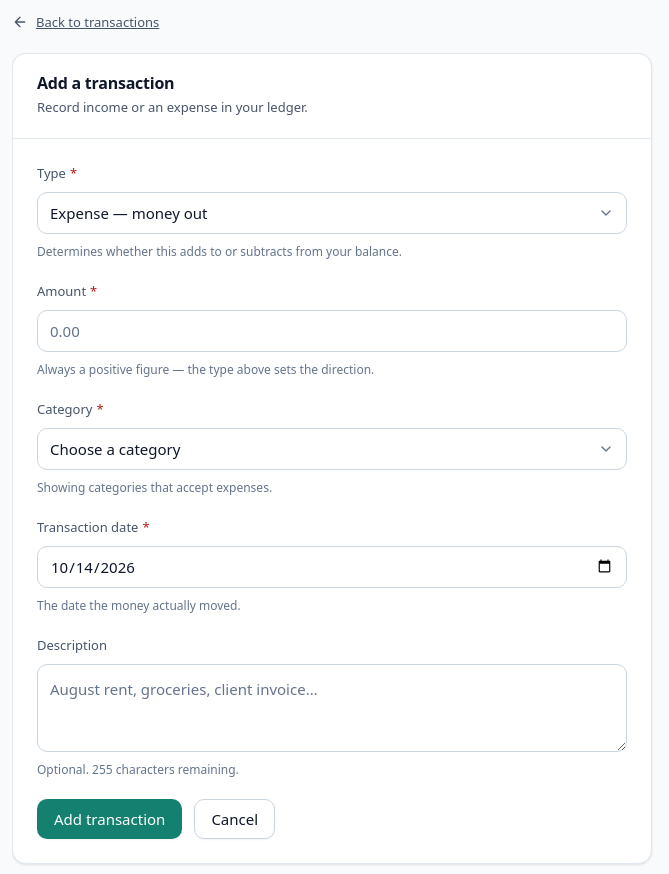
Test: TransactionFormPage › surfaces a domain rule the client cannot check
In the number field labelled "Amount *": (332, 331) [37, 310, 627, 352], type "1250.00"
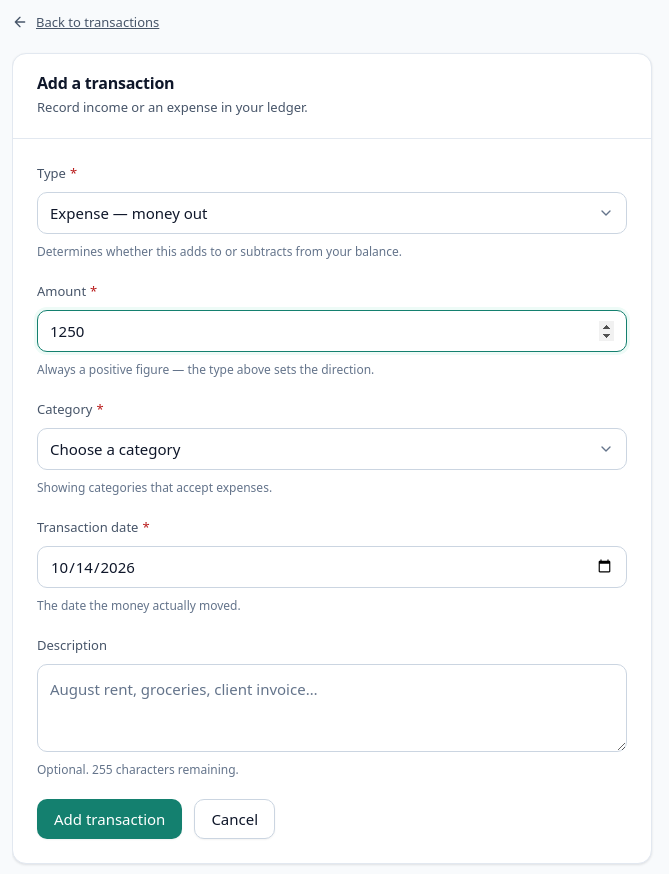
Select "Rent" in the dropdown labelled "Category *": (332, 448) [37, 428, 627, 470]
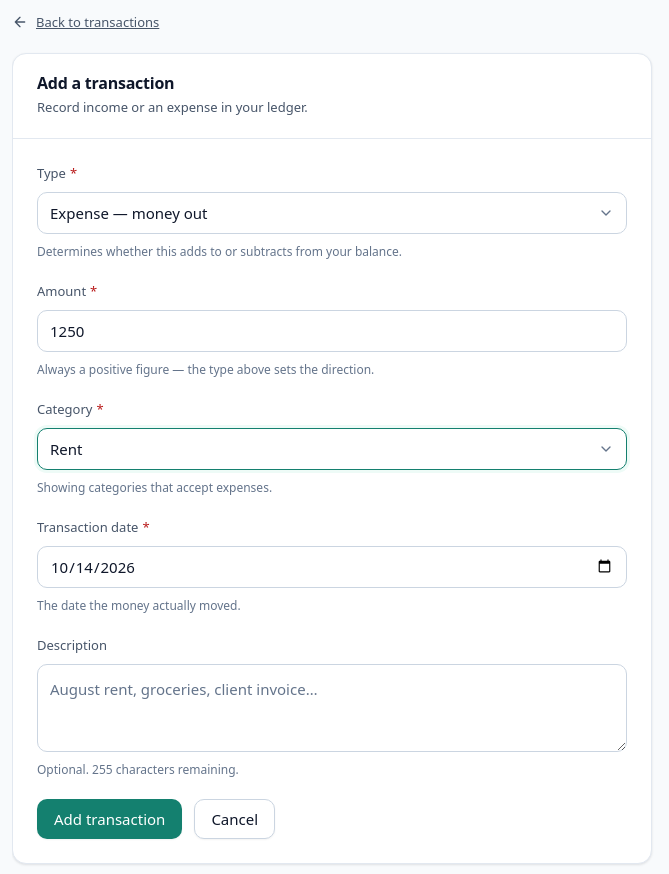
In the date field labelled "Transaction date *": (332, 566) [37, 546, 627, 588], type "2026-08-01"
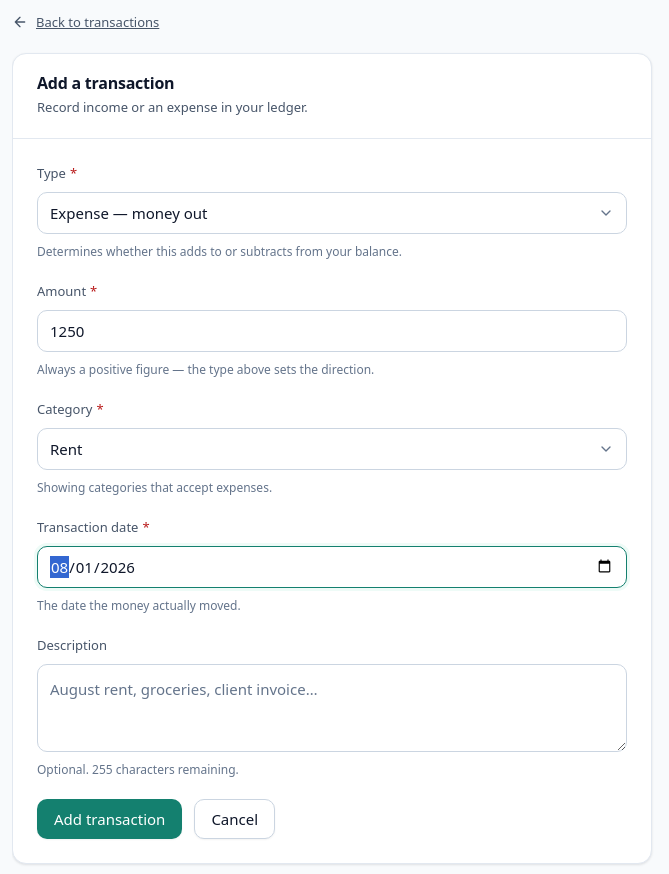
Click the button "Add transaction": (110, 819) [37, 799, 182, 839]
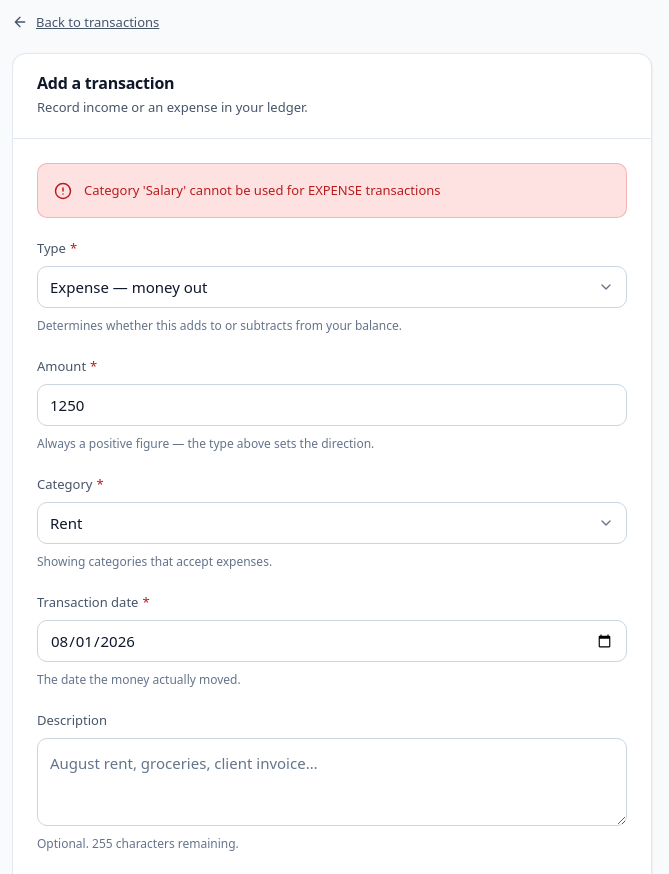
Now the message shows "cannot be used for EXPENSE", box [84, 181, 440, 199]
